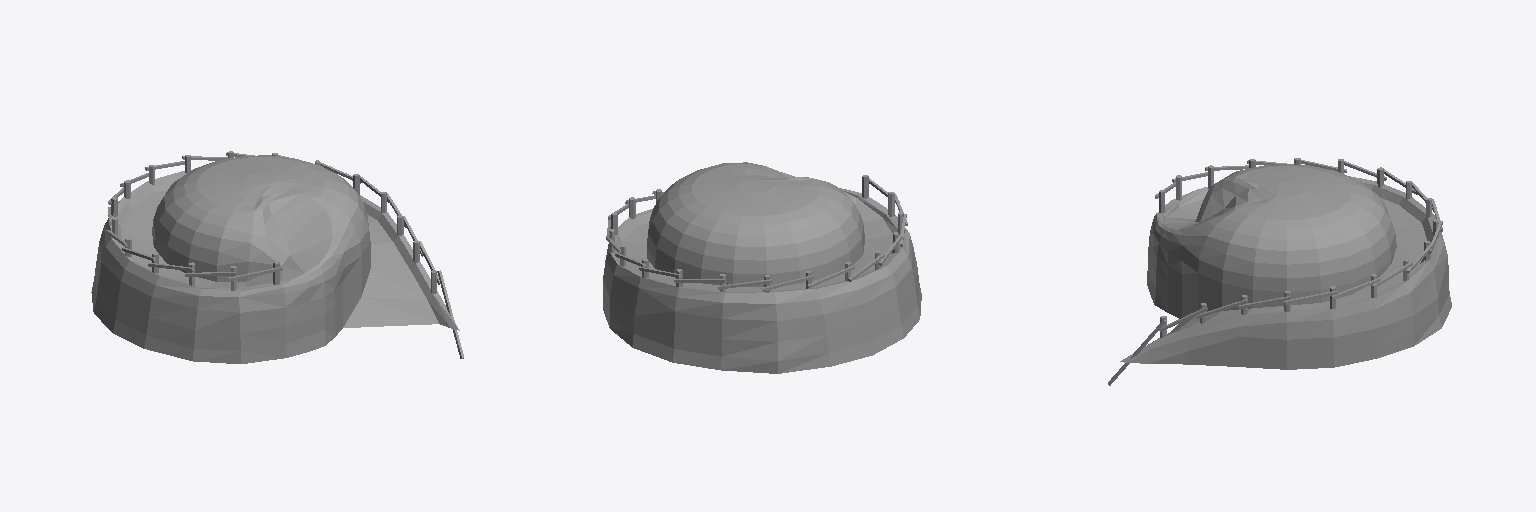
File: Hut_Hill.obj
The picture shows the model from 3 angles: view 1: azimuth 30°, elevation 25°; view 2: azimuth 150°, elevation 25°; view 3: azimuth 270°, elevation 25°; orthographic projection.
Parts seen in each view (by area): view 1: Mesh.013_pSphere1; view 2: Mesh.013_pSphere1; view 3: Mesh.013_pSphere1.
Part boxes in pixels (x1,y1,x2,y2): Mesh.013_pSphere1: (91,155,459,363); Mesh.013_pSphere1: (603,162,921,373); Mesh.013_pSphere1: (1120,164,1451,369).
Bounding box in the file's own units: 803 × 389 × 860.